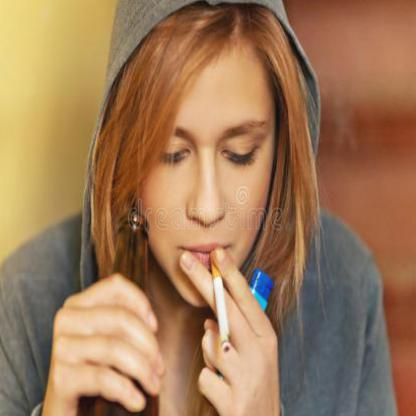cigarette: (208, 250, 232, 353)
person: (84, 0, 318, 415)
